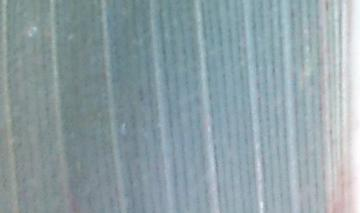tarspot: (53, 17, 63, 28), (136, 84, 145, 95), (270, 64, 277, 74), (137, 95, 145, 103), (324, 1, 329, 13), (43, 104, 50, 112), (220, 71, 226, 79)
